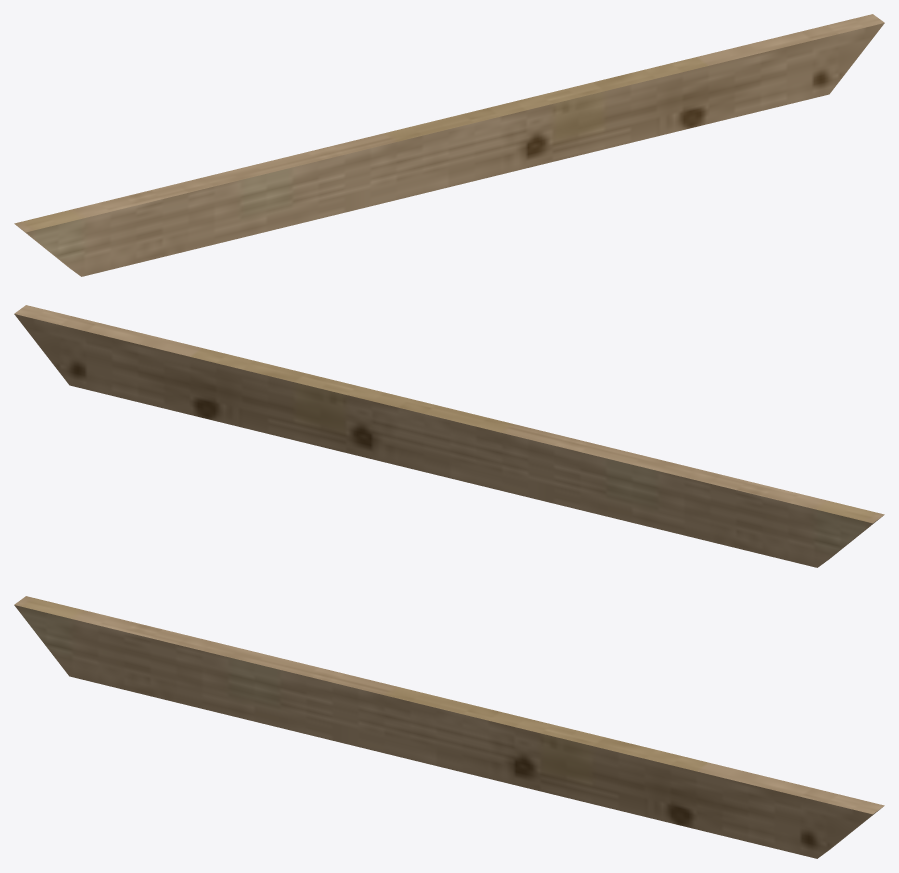
The model's file is Joglo_part_292.fbx.
3 views of the same model, one above another, from view 1: azimuth 30°, elevation 25°; view 2: azimuth 150°, elevation 25°; view 3: azimuth 330°, elevation 25° (orthographic).
Parts seen in each view (by area): view 1: Mesh356_Wood___Pine_Grained_Horizontal_0.001; view 2: Mesh356_Wood___Pine_Grained_Horizontal_0.001; view 3: Mesh356_Wood___Pine_Grained_Horizontal_0.001.
Part boxes in pixels (bbox=[...]): Mesh356_Wood___Pine_Grained_Horizontal_0.001: bbox=[14, 14, 884, 276]; Mesh356_Wood___Pine_Grained_Horizontal_0.001: bbox=[14, 305, 884, 567]; Mesh356_Wood___Pine_Grained_Horizontal_0.001: bbox=[14, 596, 884, 858].
Bounding box in the file's own units: 30.47 × 1.97 × 0.7446.
